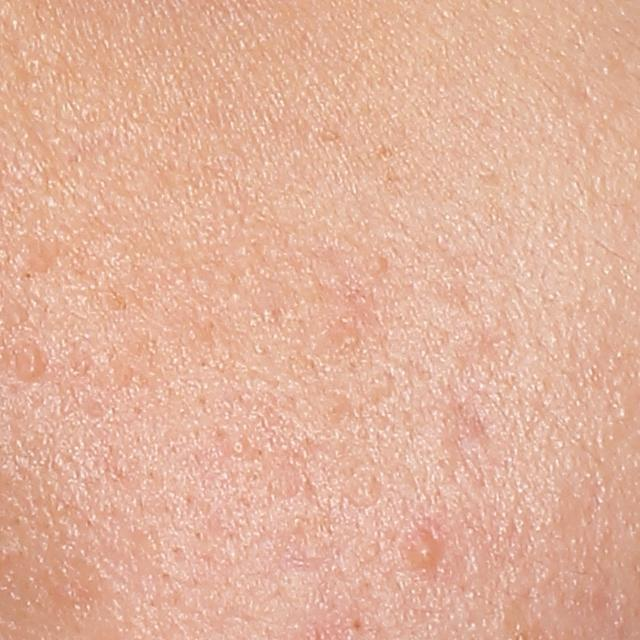comedo: (229, 437, 251, 461)
papule: (409, 527, 441, 569)
